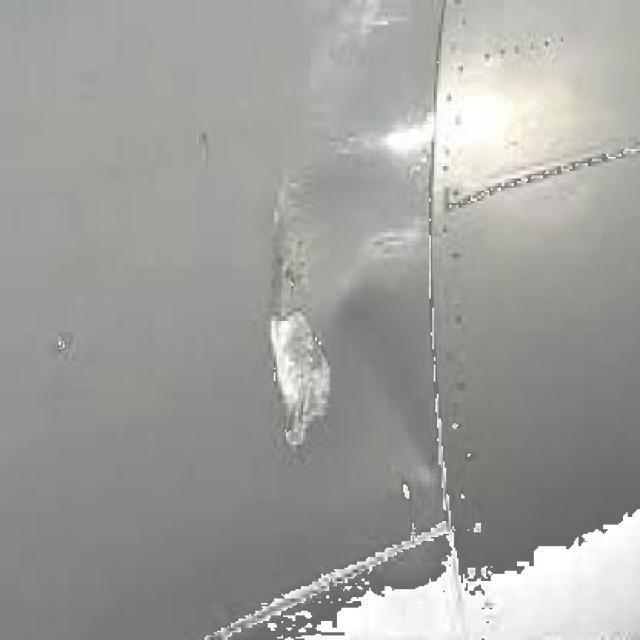dent: (260, 133, 338, 456), (294, 128, 434, 296), (336, 240, 431, 480)
